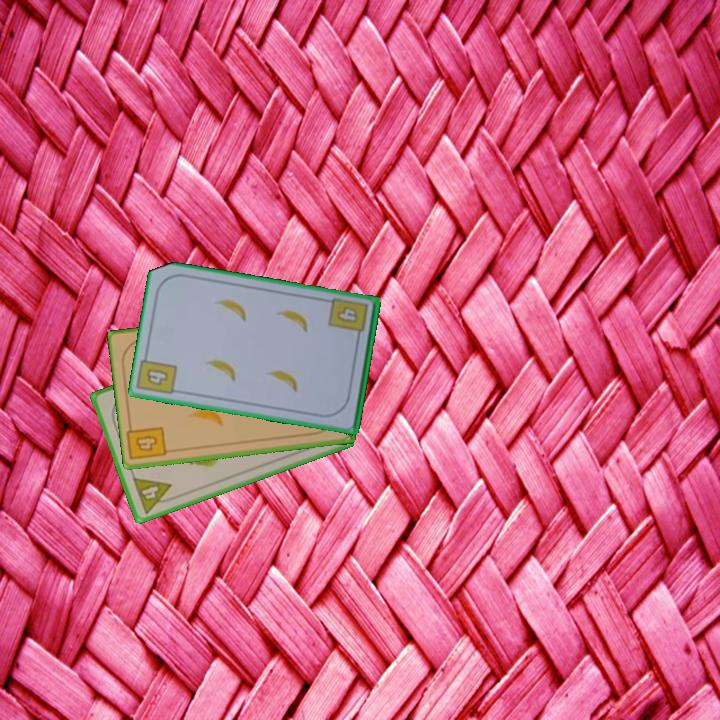4b: (326, 294, 370, 344), (132, 432, 160, 455), (143, 366, 171, 389)
4p: (129, 474, 179, 517)
